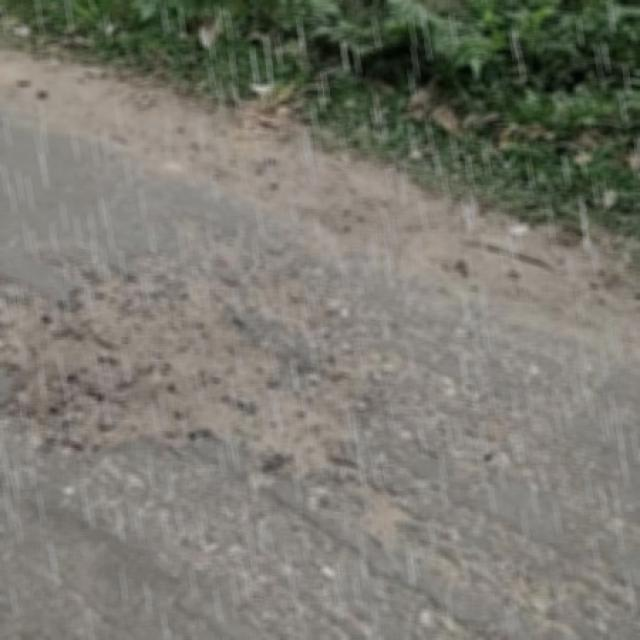road-pothole: (0, 254, 384, 475)
